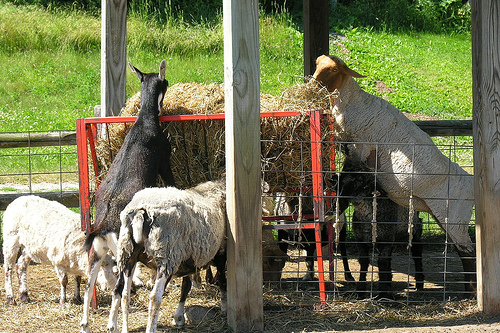goat: (309, 53, 474, 297), (78, 60, 176, 333), (116, 175, 227, 333), (3, 191, 135, 305), (327, 155, 426, 294)
